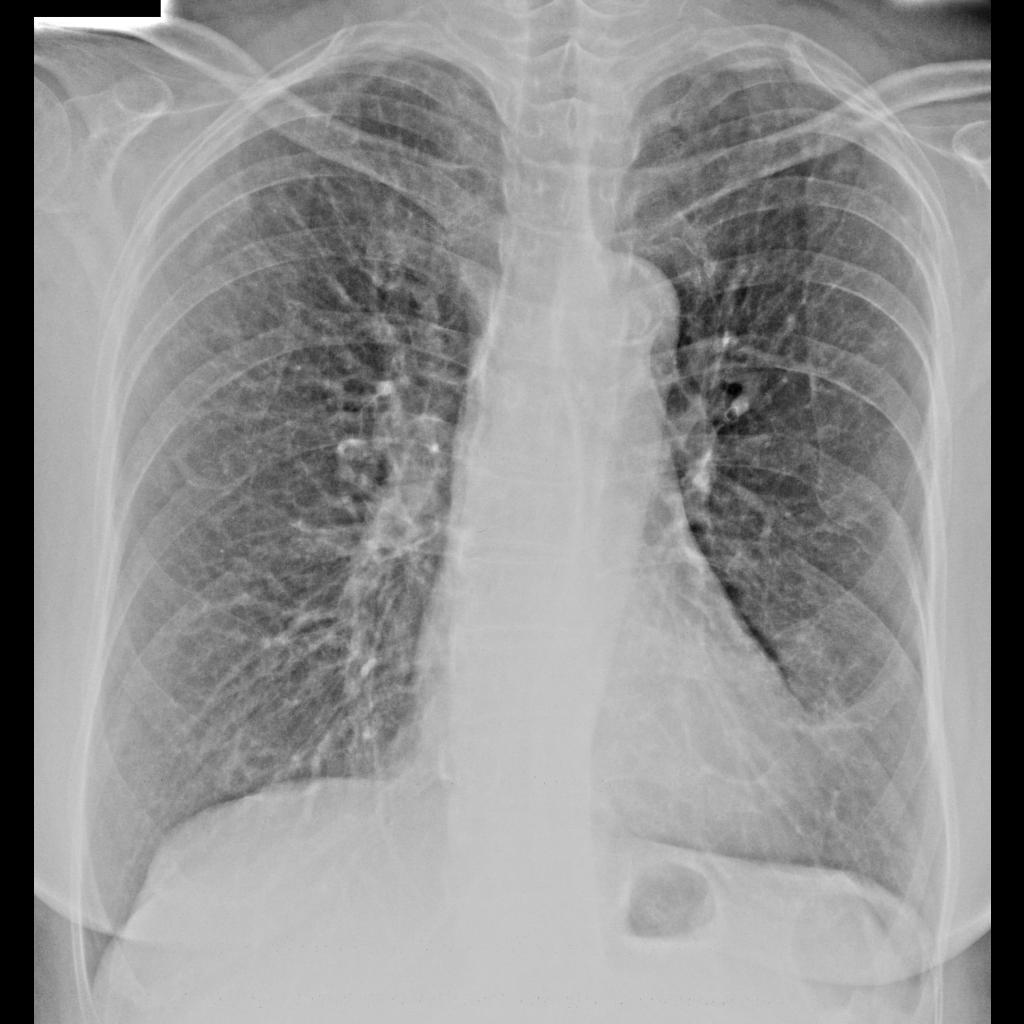Nodule: (782, 626, 842, 686)
